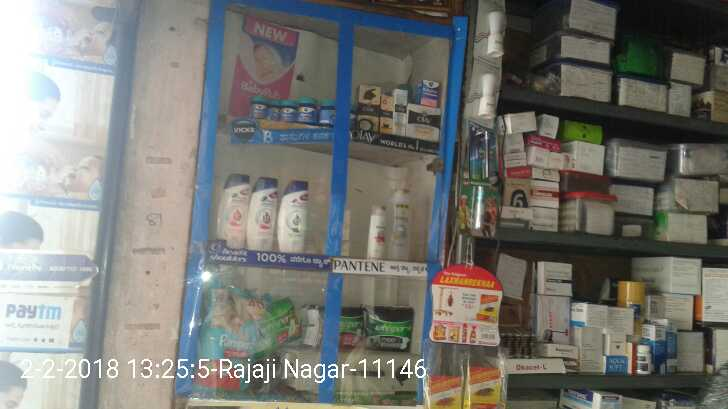beauty: (210, 171, 255, 242), (248, 171, 281, 249), (281, 175, 310, 250), (381, 87, 410, 144), (390, 182, 411, 259), (352, 76, 380, 132), (404, 102, 441, 143), (367, 198, 386, 265)
pharmacy: (207, 280, 251, 396), (367, 301, 411, 351), (416, 73, 444, 102), (295, 87, 318, 121), (267, 97, 295, 124), (240, 92, 267, 114), (315, 94, 334, 122)
